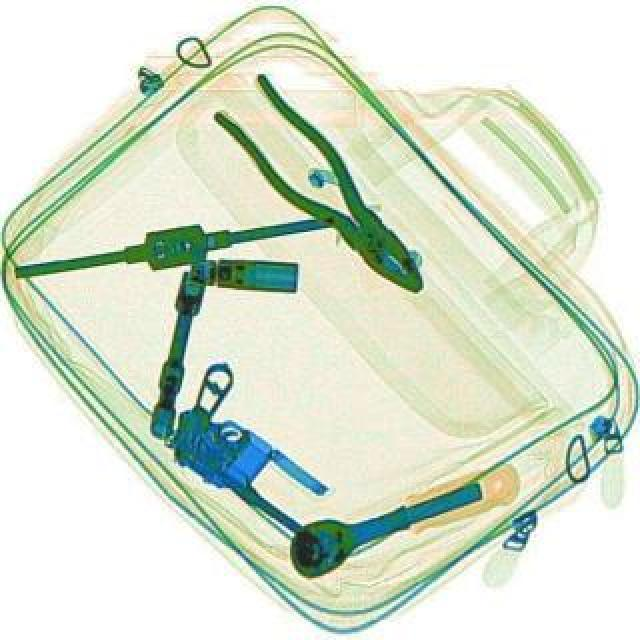gun: (144, 358, 382, 566)
wrench: (208, 72, 448, 316)
